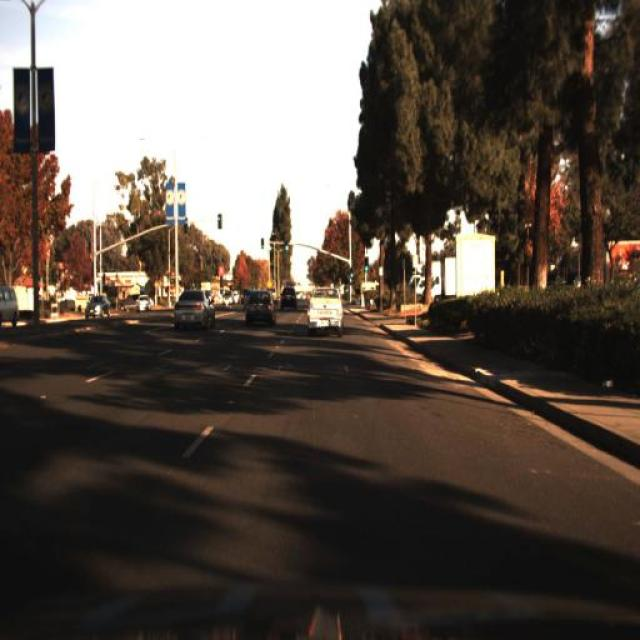car: (304, 279, 348, 337), (168, 285, 218, 335), (243, 282, 278, 328), (82, 289, 112, 319), (84, 294, 110, 320), (132, 290, 158, 312), (278, 288, 296, 310)
trafficLight-GreenLeft: (282, 232, 292, 259), (349, 262, 359, 282), (363, 260, 371, 282)
trafficLight-Red: (258, 230, 268, 261)
